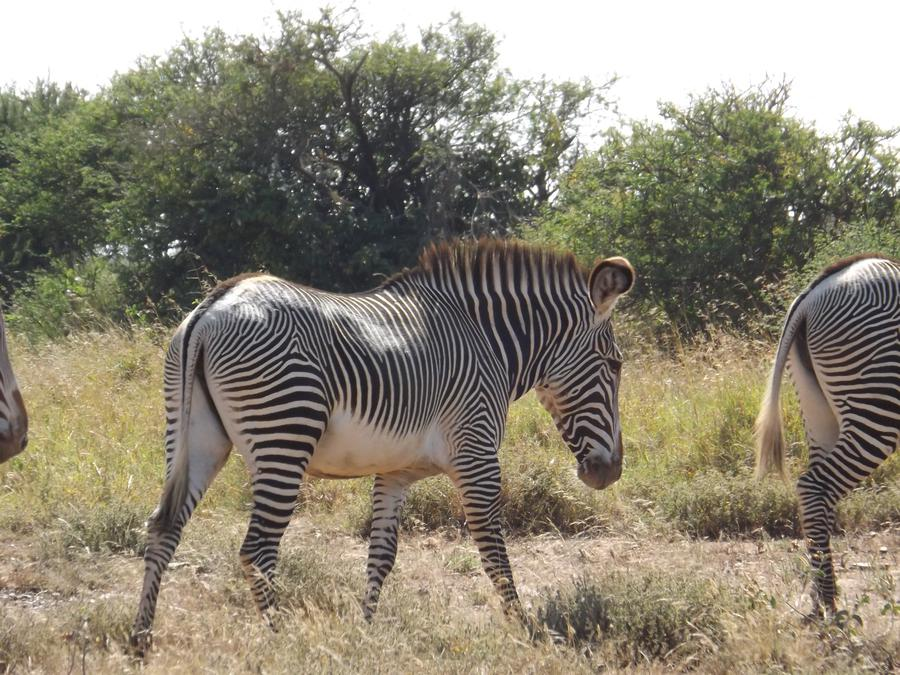zebra_grevys: (147, 256, 505, 466)
